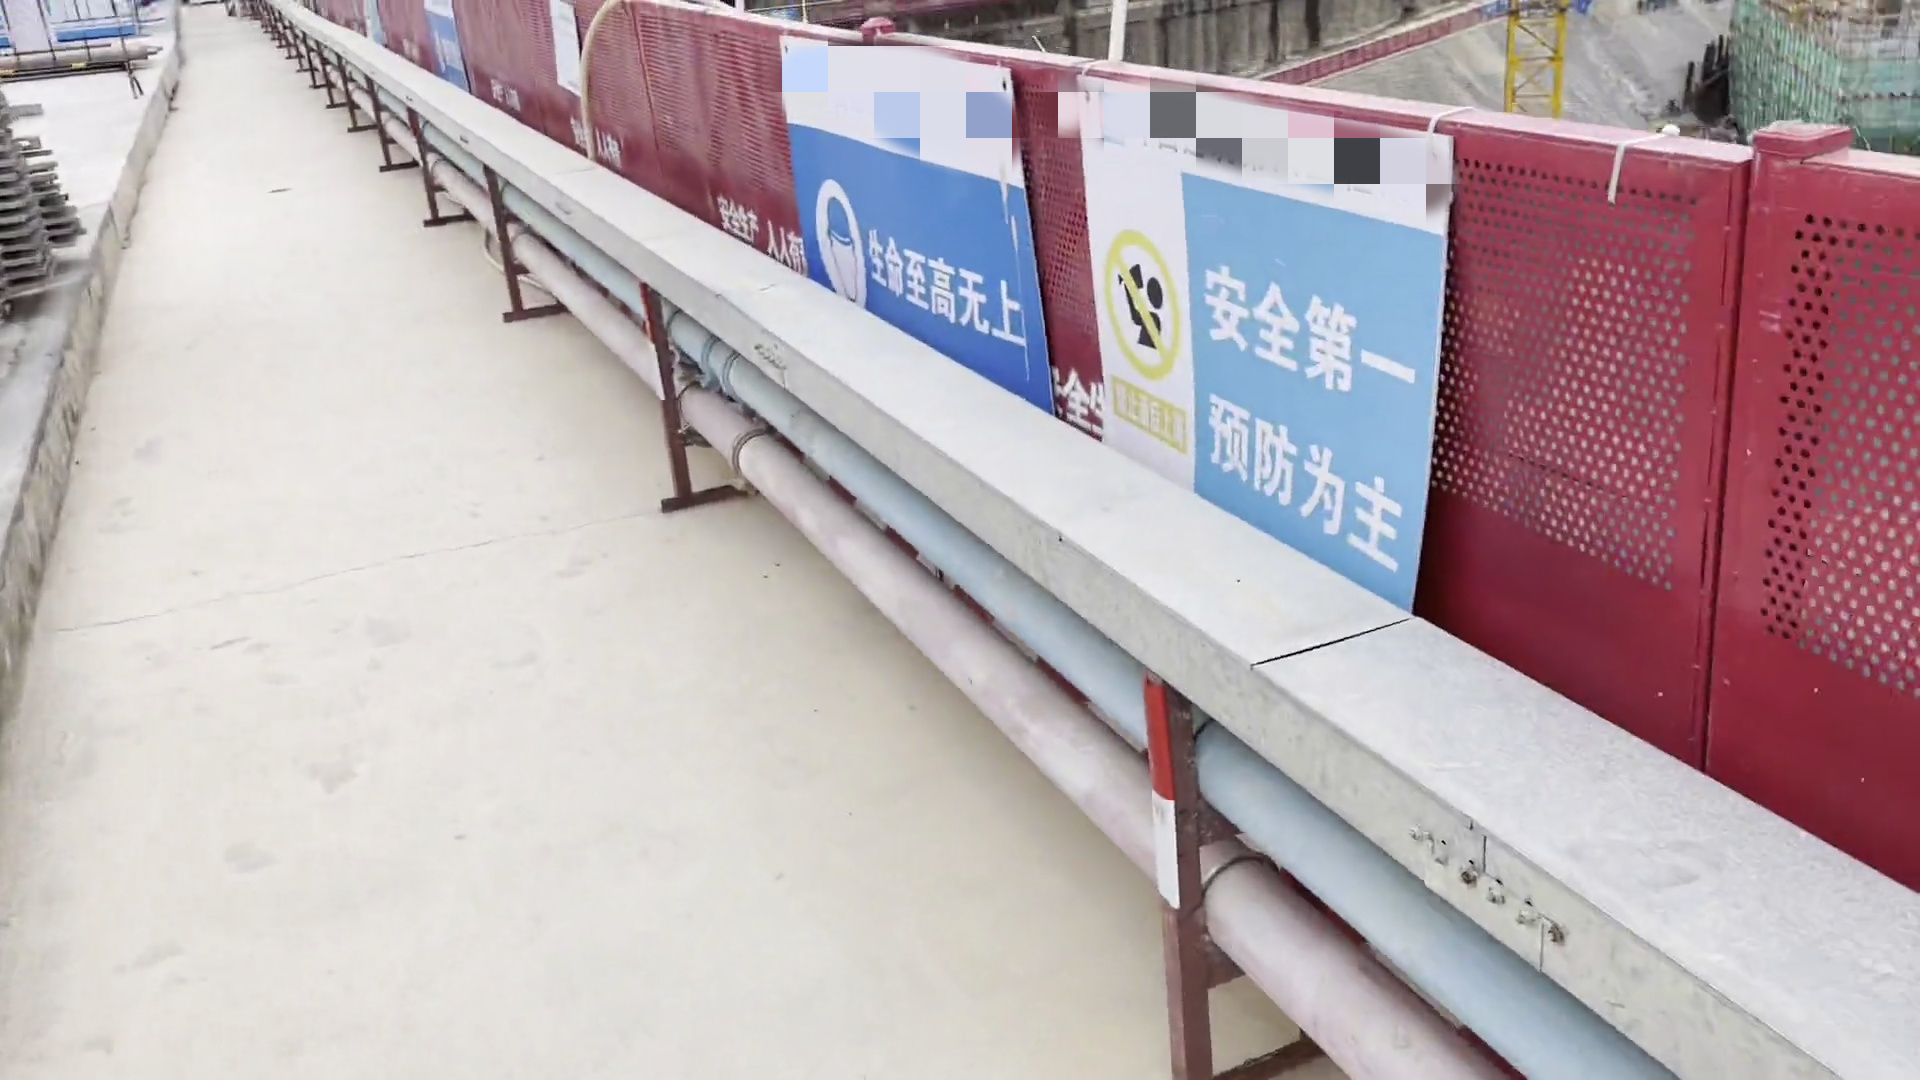fence: (1180, 70, 1920, 899), (744, 18, 1196, 501), (307, 3, 752, 255), (1, 1, 144, 100)
slogan: (1044, 54, 1481, 632), (744, 22, 1069, 418), (524, 1, 618, 102), (410, 5, 502, 80), (342, 1, 423, 74)
